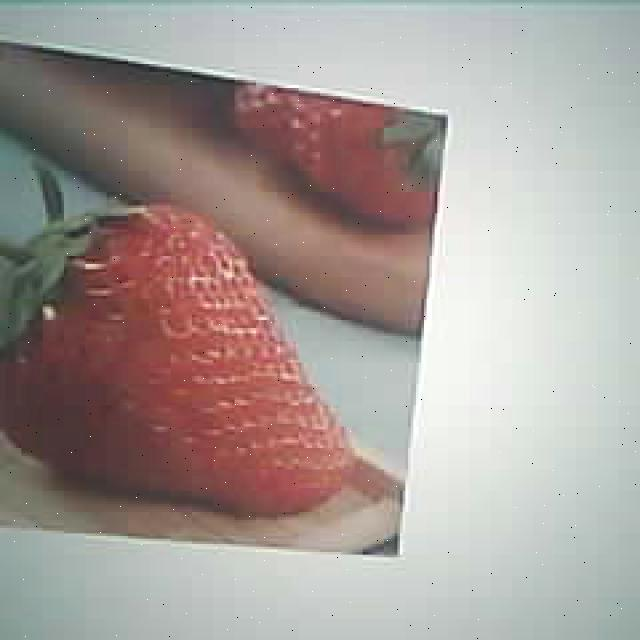ripe: (11, 206, 354, 504)
